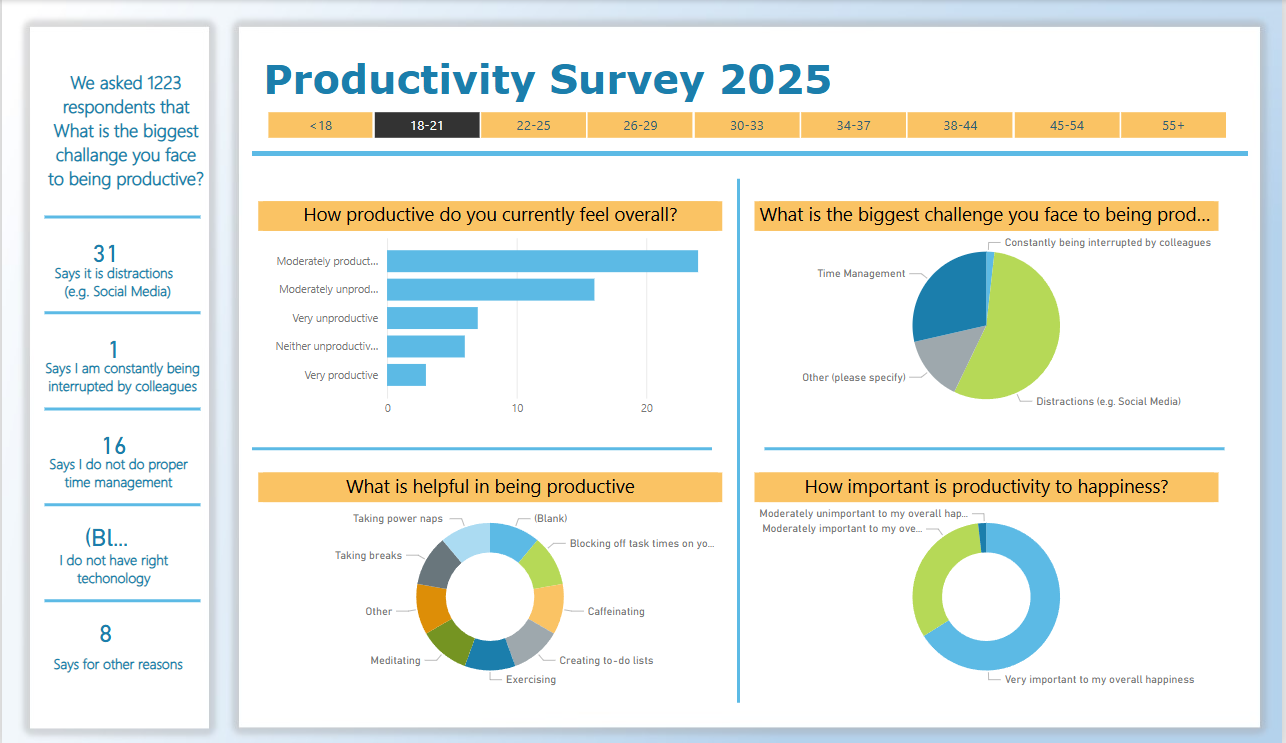

This screenshot's page, from the dashboard's own definition file:
{"tool":"powerbi","page":{"name":"Productivity Survey","canvas":[1280,720],"ordinal":0},"visuals":[{"type":"textbox","box":[40,40,168,152],"z":0},{"type":"card","fields":{"Values":["All Measures.Challange Distractions"]},"box":[64,208,80,40],"z":1000},{"type":"textbox","box":[24,232,176,56],"z":2000},{"type":"card","fields":{"Values":["All Measures.Challange Interruptions"]},"box":[64,304,96,40],"z":3000},{"type":"textbox","box":[32,424,168,64],"z":4000},{"type":"textbox","box":[32,328,176,88],"z":5000},{"type":"card","fields":{"Values":["All Measures.Challange Time Management"]},"box":[64,400,96,40],"z":6000},{"type":"card","fields":{"Values":["All Measures.Challange Right Technology"]},"box":[72,496,64,32],"z":7000},{"type":"textbox","box":[24,520,176,56],"z":8000},{"type":"card","fields":{"Values":["All Measures.Challange Others"]},"box":[272,288,72,16],"z":9000},{"type":"card","fields":{"Values":["All Measures.Challange Others"]},"box":[64,584,80,48],"z":10000},{"type":"textbox","box":[40,624,152,40],"z":11000},{"type":"textbox","box":[256,24,696,64],"z":12000},{"type":"slicer","fields":{"Values":["ProductivitySurvey2017.Age"]},"box":[240,80,1008,40],"z":13000},{"type":"basicShape","box":[240,112,1016,32],"z":14000},{"type":"clusteredBarChart","title":"How productive do you currently feel overall?","fields":{"Category":["ProductivitySurvey2017.How productive do you currently feel overall?"],"Y":["CountNonNull(ProductivitySurvey2017.RespondentID)"]},"box":[256,176,464,224],"z":15000},{"type":"pieChart","title":"What is the biggest challenge you face to being productive?","fields":{"Y":["CountNonNull(ProductivitySurvey2017.RespondentID)"],"Series":["ProductivitySurvey2017.What is the biggest challenge you face to being productive?"]},"box":[752,176,464,224],"z":16000},{"type":"donutChart","title":"What is helpful in being productive","fields":{"Y":["CountNonNull(ProductivitySurvey2017.RespondentID)"],"Series":["Most Helpful.helpful"]},"box":[256,448,464,224],"z":17000},{"type":"donutChart","title":"How important is productivity to happiness?","fields":{"Y":["CountNonNull(ProductivitySurvey2017.RespondentID)"],"Category":["ProductivitySurvey2017.How important would you say feeling productive is to your happiness?"]},"box":[752,448,464,224],"z":18000},{"type":"basicShape","box":[592,144,288,544],"z":19000},{"type":"basicShape","box":[240,384,480,80],"z":20000},{"type":"basicShape","box":[752,384,480,80],"z":21000},{"type":"basicShape","box":[32,264,176,48],"z":22000},{"type":"basicShape","box":[32,160,176,64],"z":23000},{"type":"basicShape","box":[32,360,176,48],"z":24000},{"type":"basicShape","box":[32,464,176,32],"z":25000},{"type":"basicShape","box":[32,544,176,64],"z":26000}]}

Visuals, with their boxes in screenshot pixels (x1, y1, x2, y2), scaled from the page's 1280x720 canvas onto the 1286x743 screenshot:
textbox: {"left": 40, "top": 41, "right": 209, "bottom": 198}
card - All Measures.Challange Distractions: {"left": 64, "top": 215, "right": 145, "bottom": 256}
textbox: {"left": 24, "top": 239, "right": 201, "bottom": 297}
card - All Measures.Challange Interruptions: {"left": 64, "top": 314, "right": 161, "bottom": 355}
textbox: {"left": 32, "top": 438, "right": 201, "bottom": 504}
textbox: {"left": 32, "top": 338, "right": 209, "bottom": 429}
card - All Measures.Challange Time Management: {"left": 64, "top": 413, "right": 161, "bottom": 454}
card - All Measures.Challange Right Technology: {"left": 72, "top": 512, "right": 137, "bottom": 545}
textbox: {"left": 24, "top": 537, "right": 201, "bottom": 594}
card - All Measures.Challange Others: {"left": 273, "top": 297, "right": 346, "bottom": 314}
card - All Measures.Challange Others: {"left": 64, "top": 603, "right": 145, "bottom": 652}
textbox: {"left": 40, "top": 644, "right": 193, "bottom": 685}
textbox: {"left": 257, "top": 25, "right": 956, "bottom": 91}
slicer - ProductivitySurvey2017.Age: {"left": 241, "top": 83, "right": 1254, "bottom": 124}
basicShape: {"left": 241, "top": 116, "right": 1262, "bottom": 149}
"How productive do you currently feel overall?" clusteredBarChart: {"left": 257, "top": 182, "right": 723, "bottom": 413}
"What is the biggest challenge you face to being productive?" pieChart: {"left": 756, "top": 182, "right": 1222, "bottom": 413}
"What is helpful in being productive" donutChart: {"left": 257, "top": 462, "right": 723, "bottom": 693}
"How important is productivity to happiness?" donutChart: {"left": 756, "top": 462, "right": 1222, "bottom": 693}
basicShape: {"left": 595, "top": 149, "right": 884, "bottom": 710}
basicShape: {"left": 241, "top": 396, "right": 723, "bottom": 479}
basicShape: {"left": 756, "top": 396, "right": 1238, "bottom": 479}
basicShape: {"left": 32, "top": 272, "right": 209, "bottom": 322}
basicShape: {"left": 32, "top": 165, "right": 209, "bottom": 231}
basicShape: {"left": 32, "top": 372, "right": 209, "bottom": 421}
basicShape: {"left": 32, "top": 479, "right": 209, "bottom": 512}
basicShape: {"left": 32, "top": 561, "right": 209, "bottom": 627}
